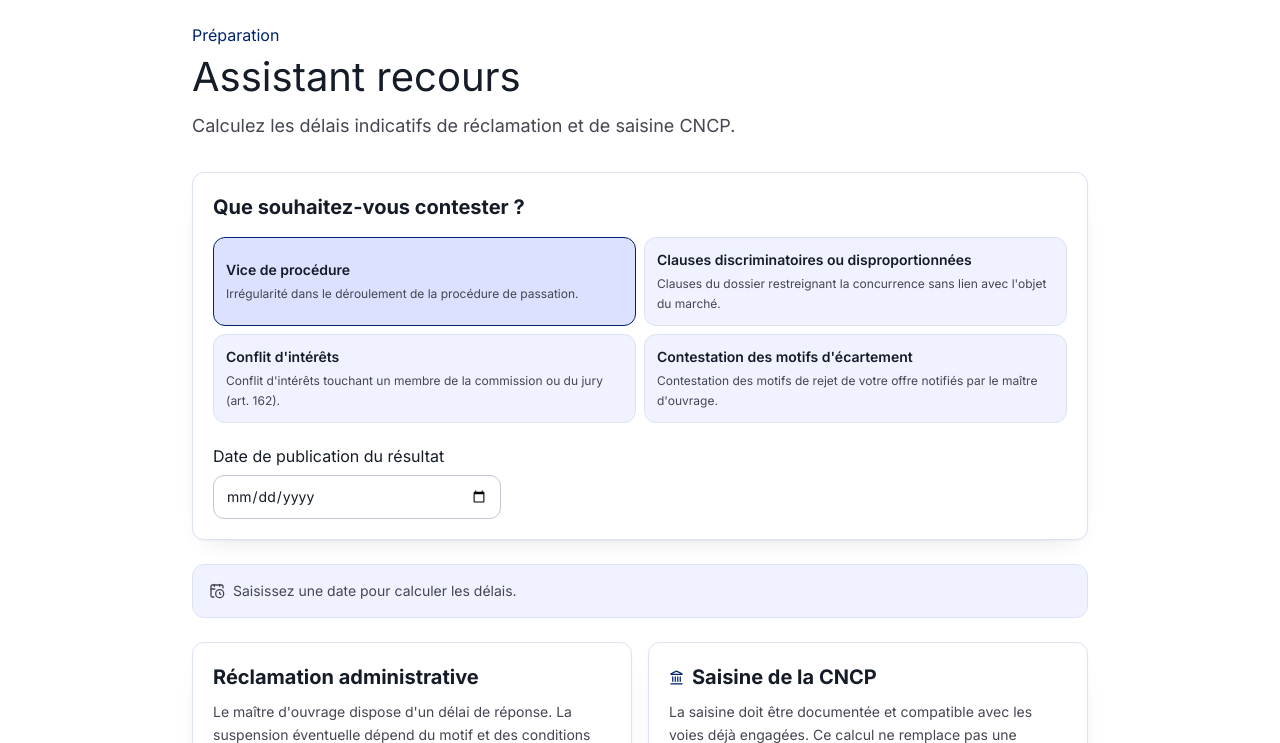
Recours › calculates administrative and CNCP deadlines from the reference date
The image size is (1280, 743).
Type "2026-09-01" into the date field labelled "Date de publication du résultat" at (357, 497), box [213, 475, 501, 519]
(page scrolled)
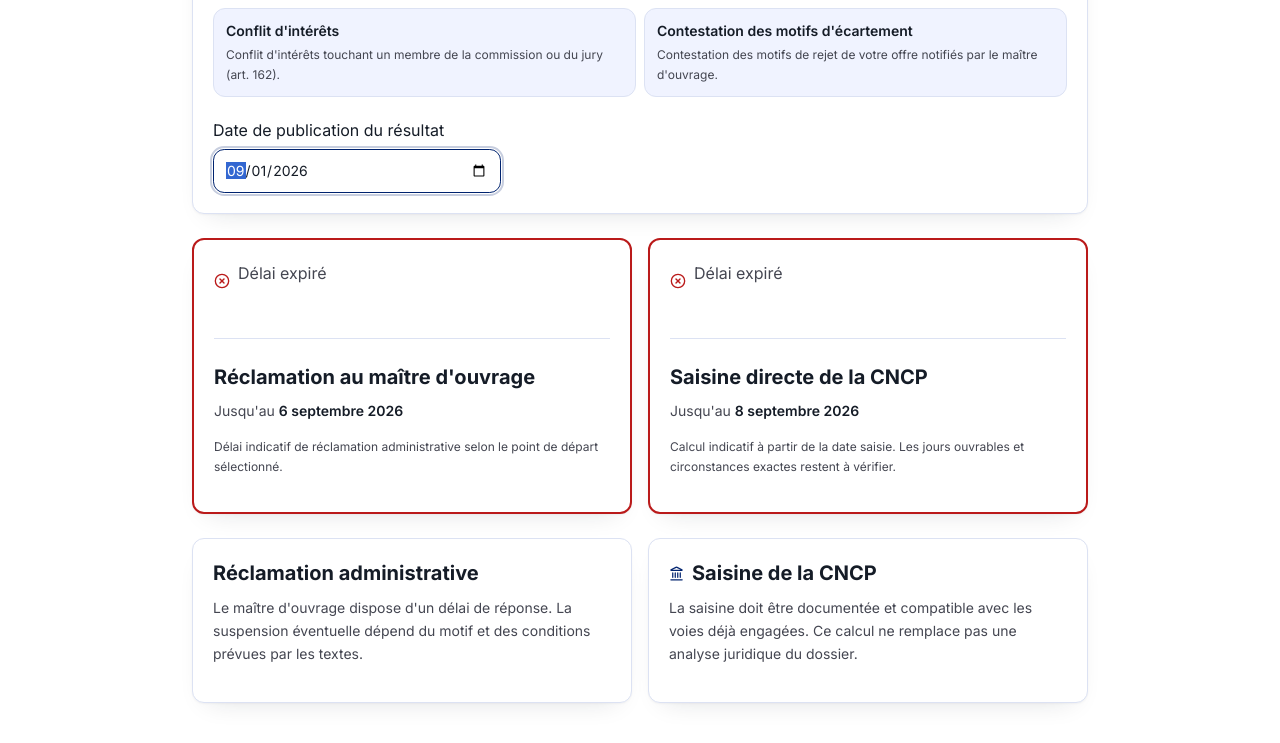
Result: the heading "Réclamation au maître d'ouvrage" is shown at [214, 338, 610, 391]
Result: the text "6 septembre 2026" is shown at [279, 402, 403, 419]
Result: the text "8 septembre 2026" is shown at [735, 402, 859, 419]
